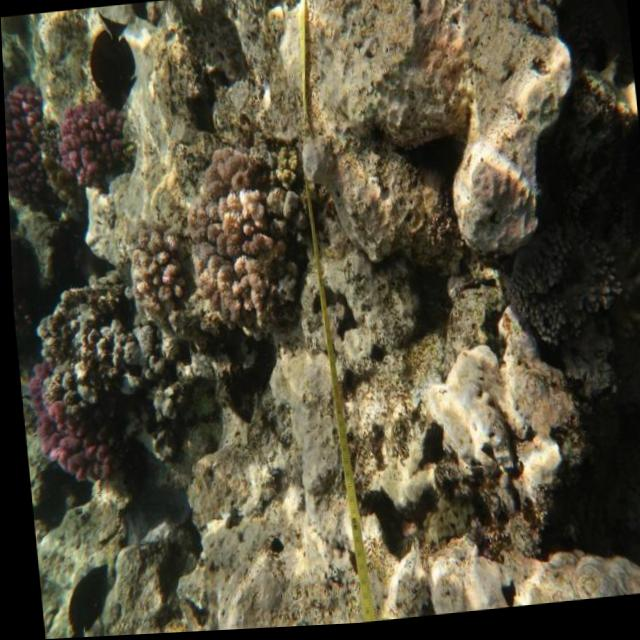Dead Coral: (34, 282, 150, 425)
Healthy Coral: (47, 94, 133, 201), (3, 71, 53, 215)
